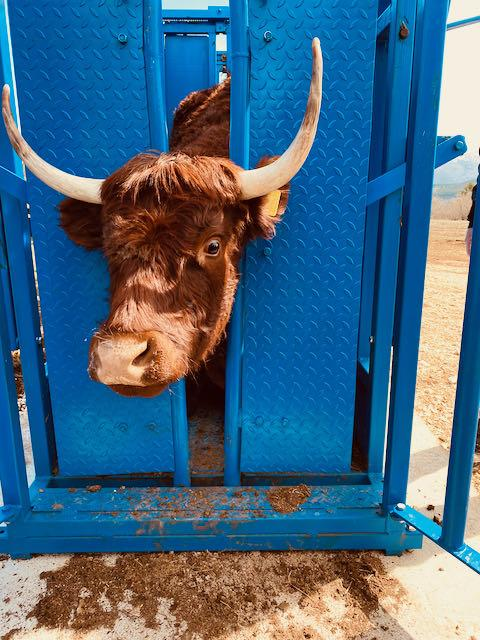muzzles: (81, 330, 184, 401)
